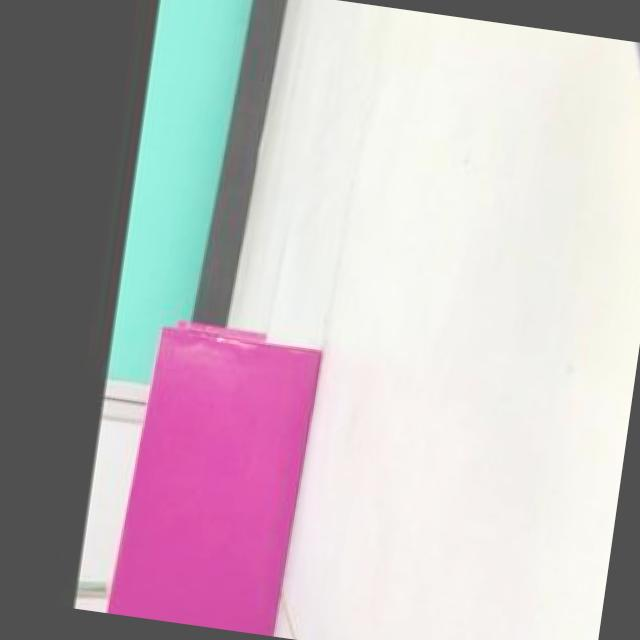xparking: (128, 326, 330, 639)
